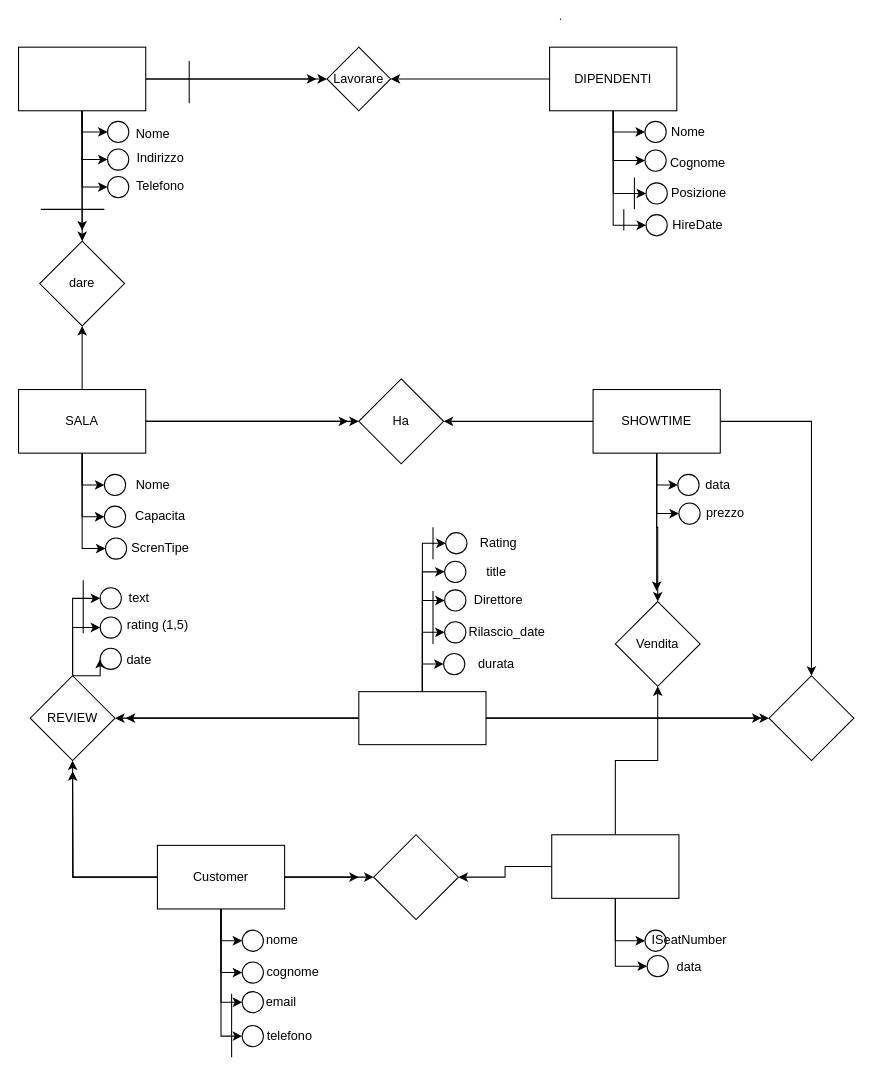
Some shapes in this 872 by 1077 pixel diagram are drawn without their labels. Here are the shapes that lost their labels. From the top down, the centre of each, then its label:
At (81,78): "CINEMA".
At (422,718): "Film".
At (811,718): "Prevede".
At (415,877): "acquistare".
At (615,866): "TICHET".
